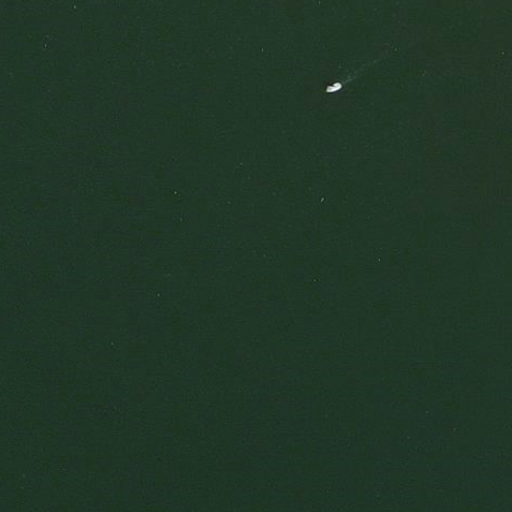ship: (322, 80, 346, 96)
